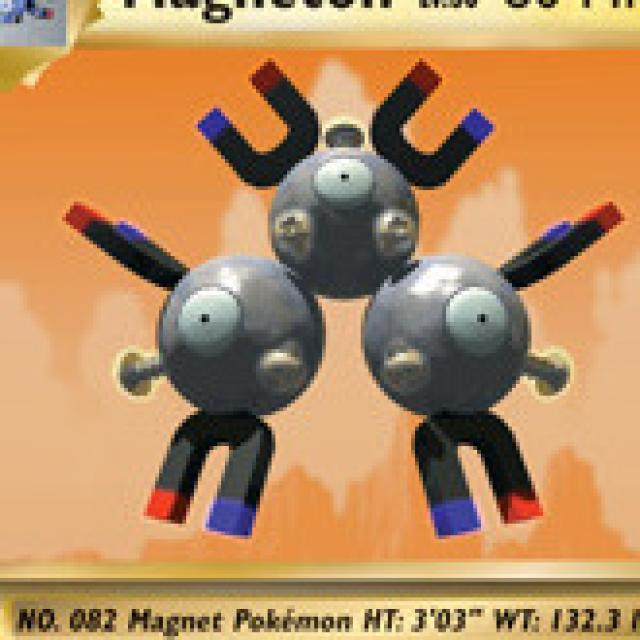Magneton: (107, 92, 578, 477)
